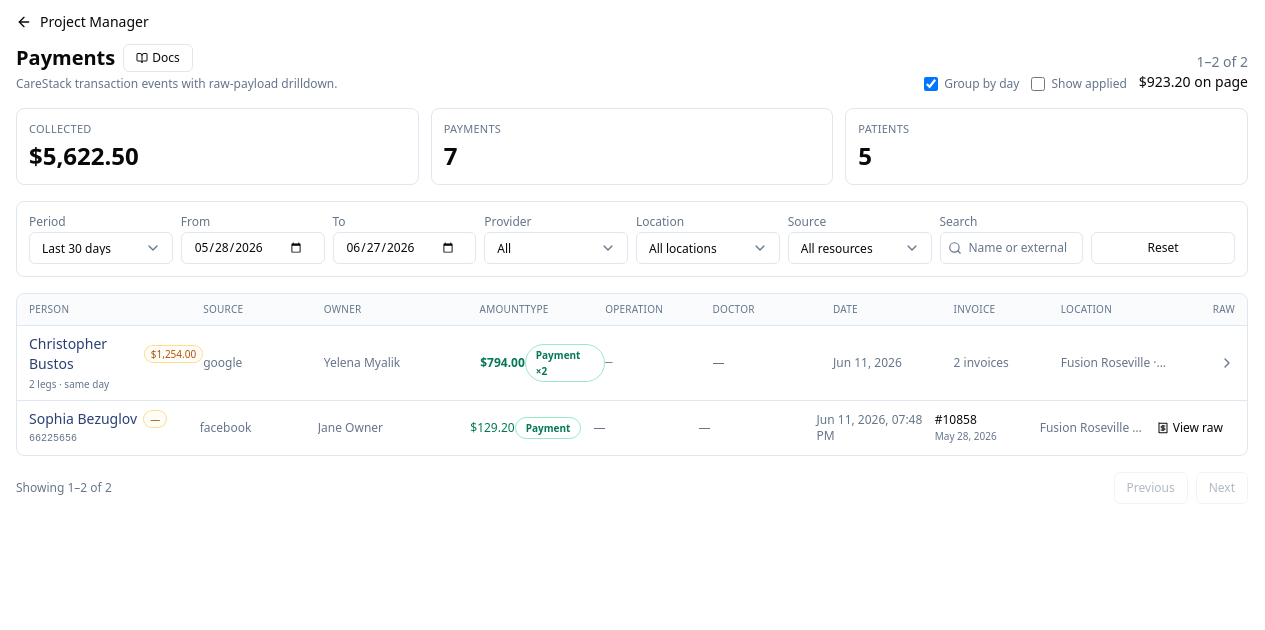
ProjectManagerPaymentsPage › groups same-day legs per person by default and expands them (ENG-410)
The image size is (1265, 630).
expect the link "Christopher Bustos" is shown: met, box 29,334 -> 107,372
expect the text "Payment ×2" is shown: met, box 525,344 -> 605,382
# Expanding shows the underlying legs with their own invoices.
Click the button with aria-label "Toggle 2 payment legs for Christopher Bustos" at coordinates (173, 354), box 17,326 -> 1247,400
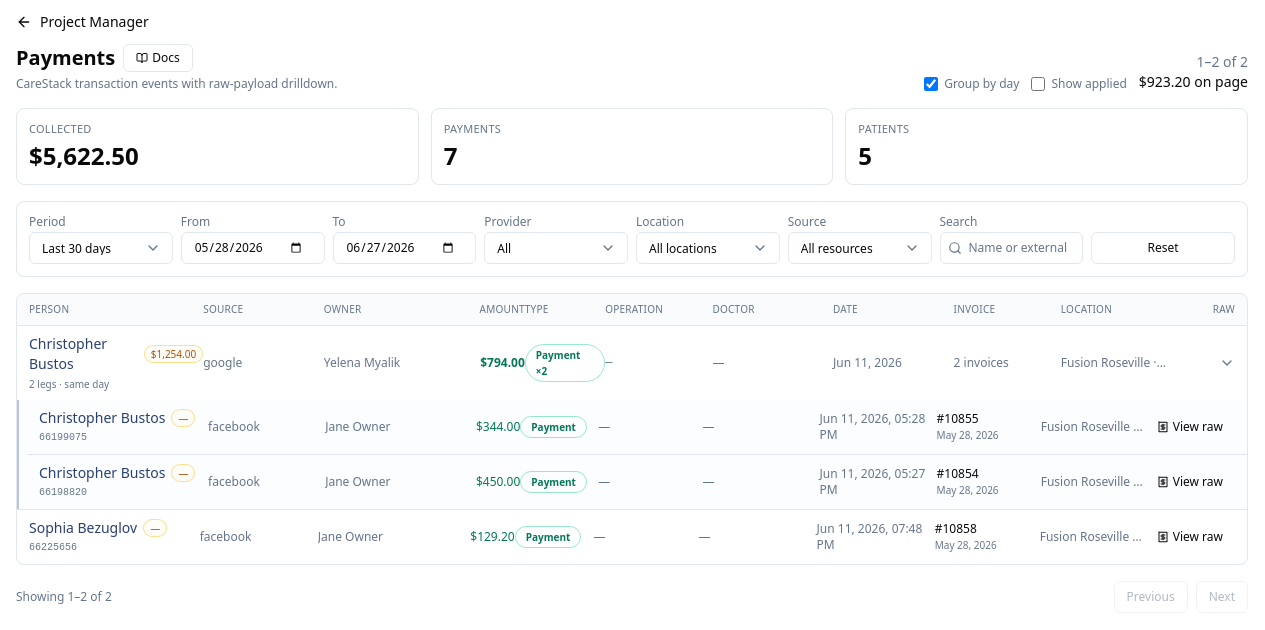
expect the text "66198820" is shown: met, box 39,486 -> 87,498
expect the text "66199075" is shown: met, box 39,432 -> 87,442
expect the text "#10854" is shown: met, box 937,464 -> 979,482
